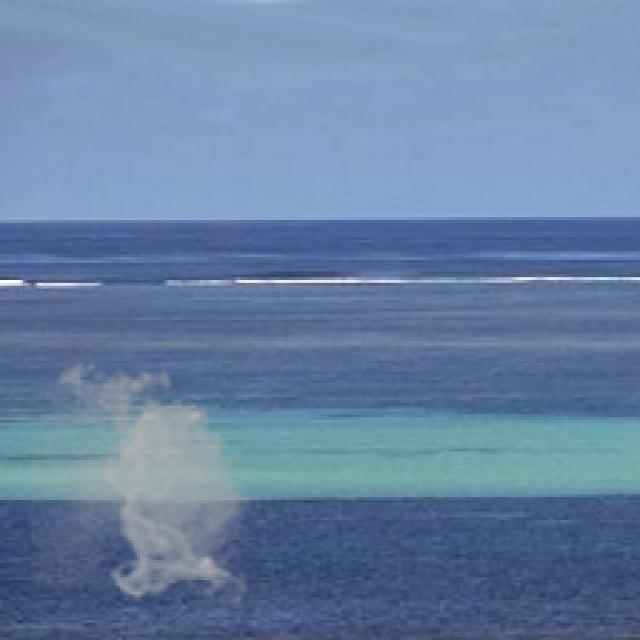smoke: (31, 354, 260, 603)
